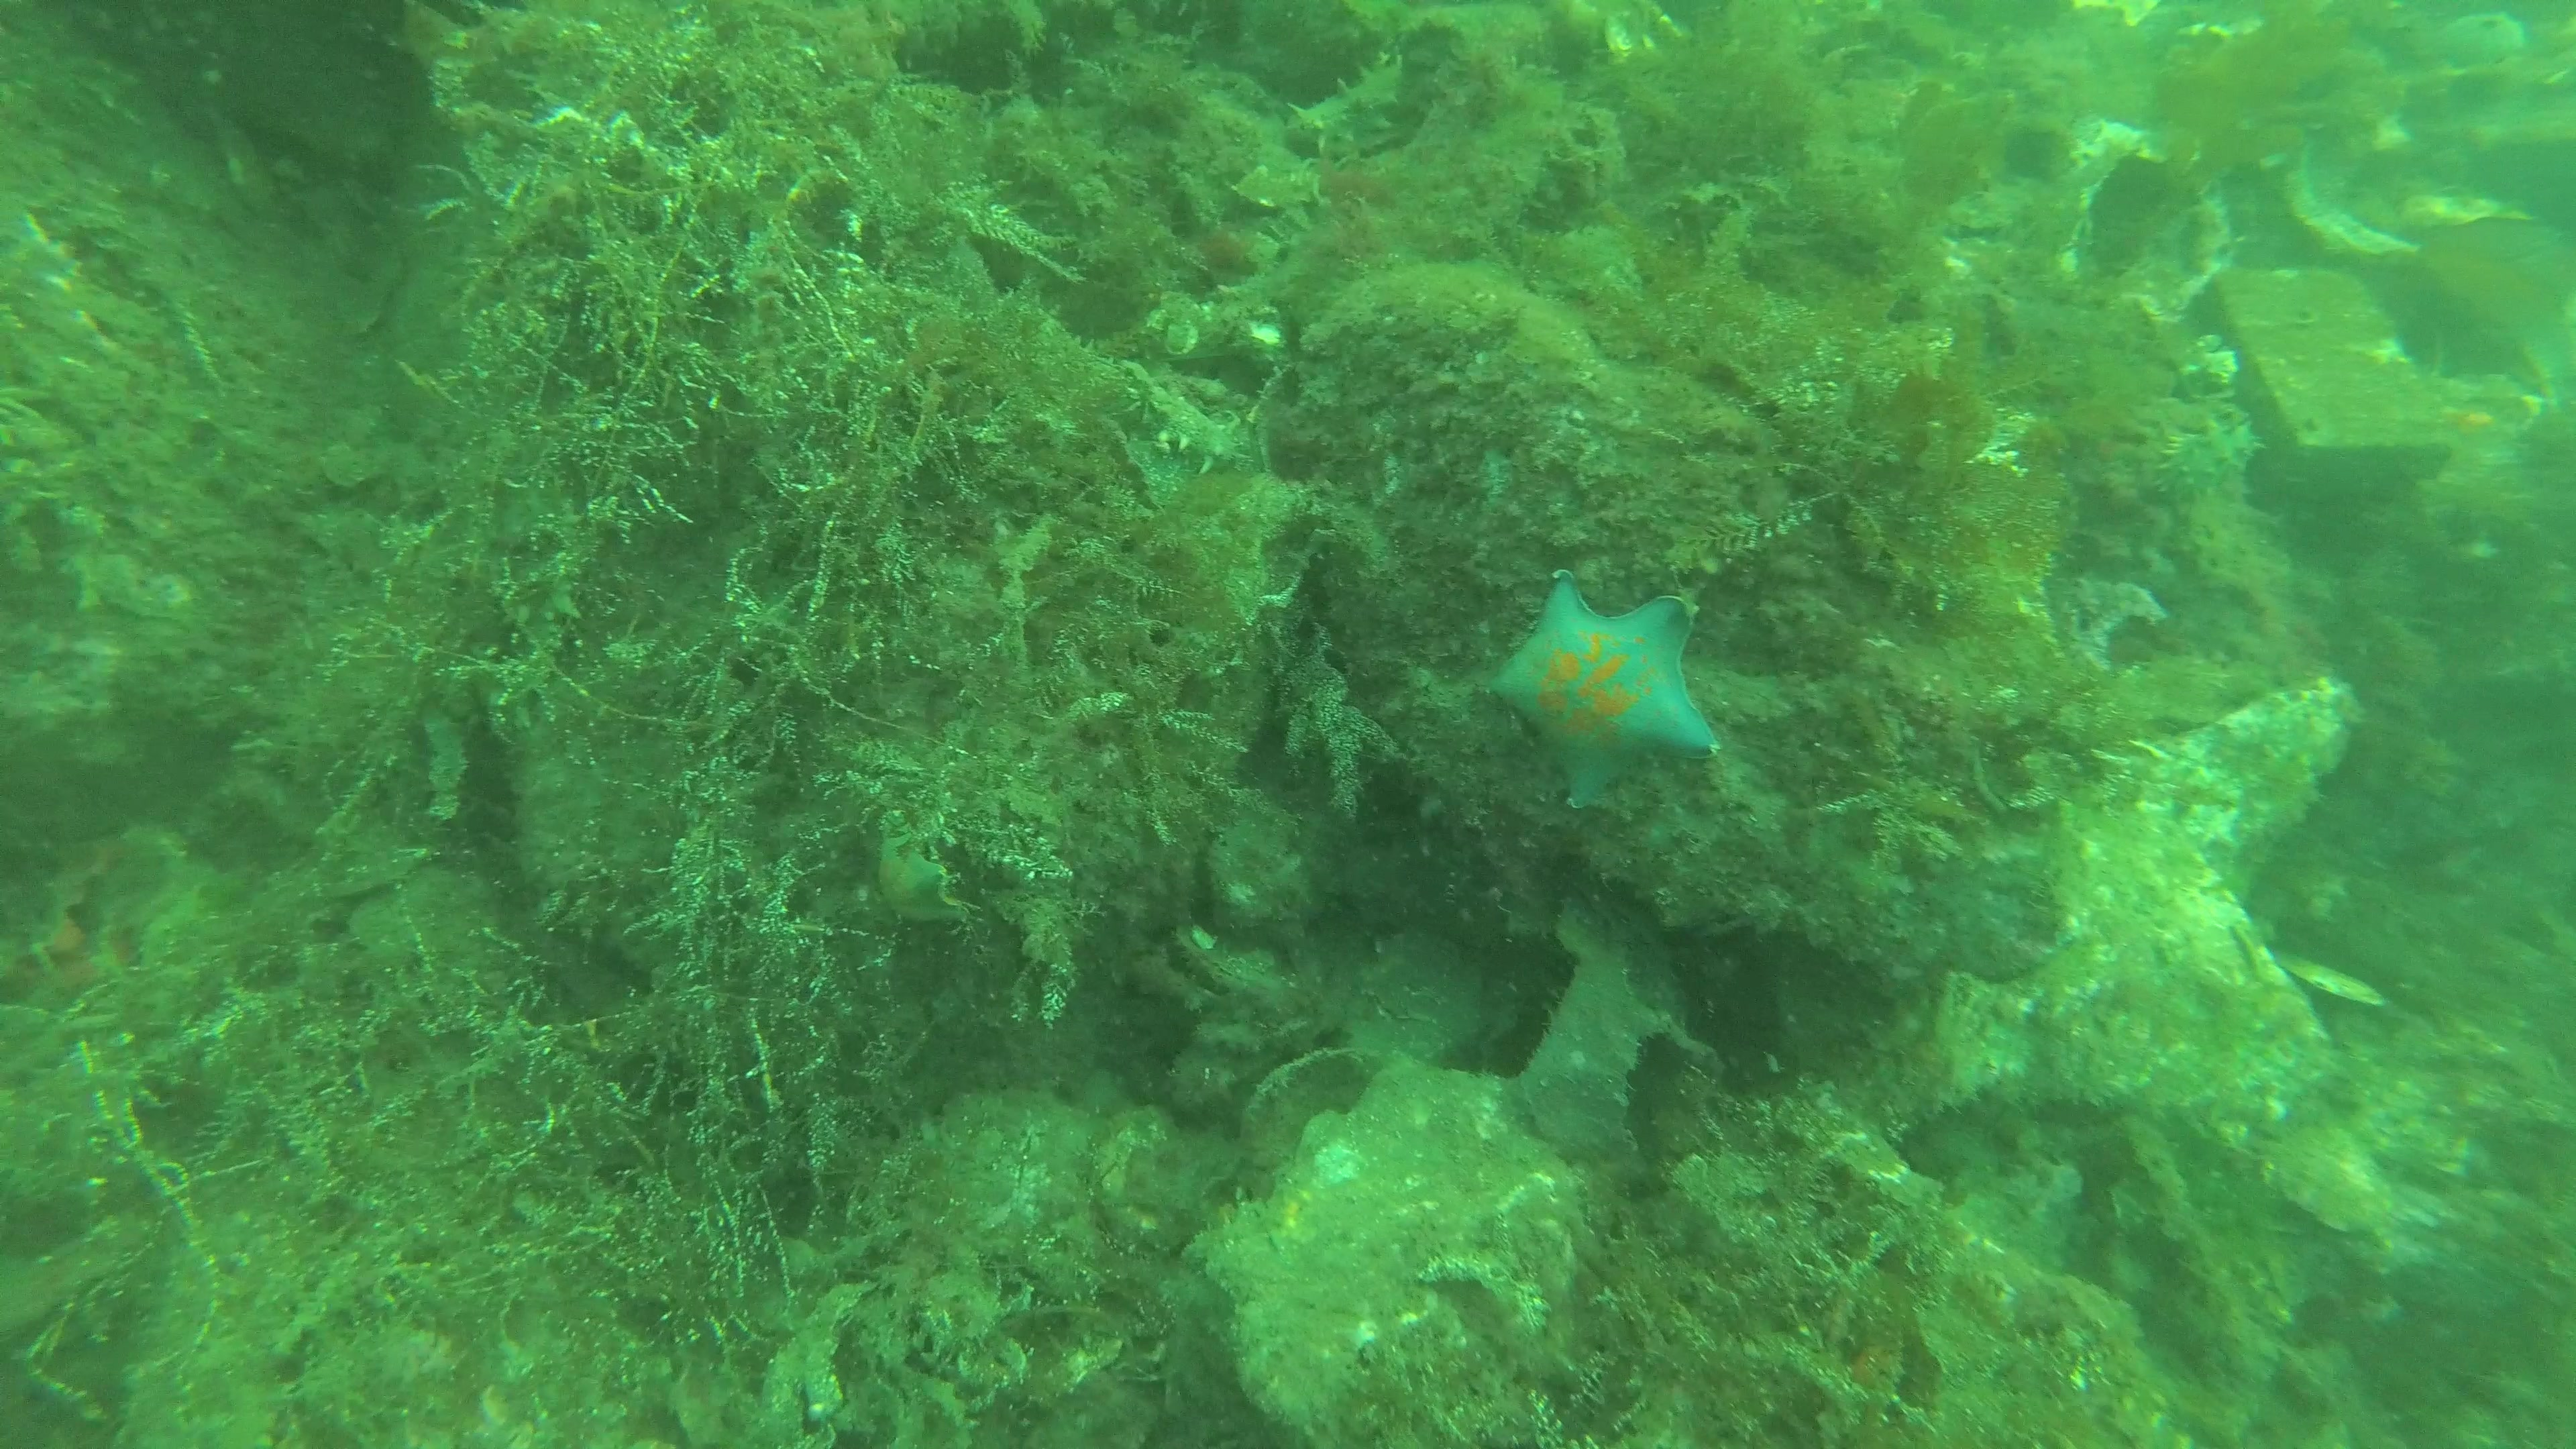holothurian: (1276, 48, 1421, 159), (1127, 368, 1258, 483)
starfish: (1483, 563, 1725, 819), (870, 837, 959, 936)
